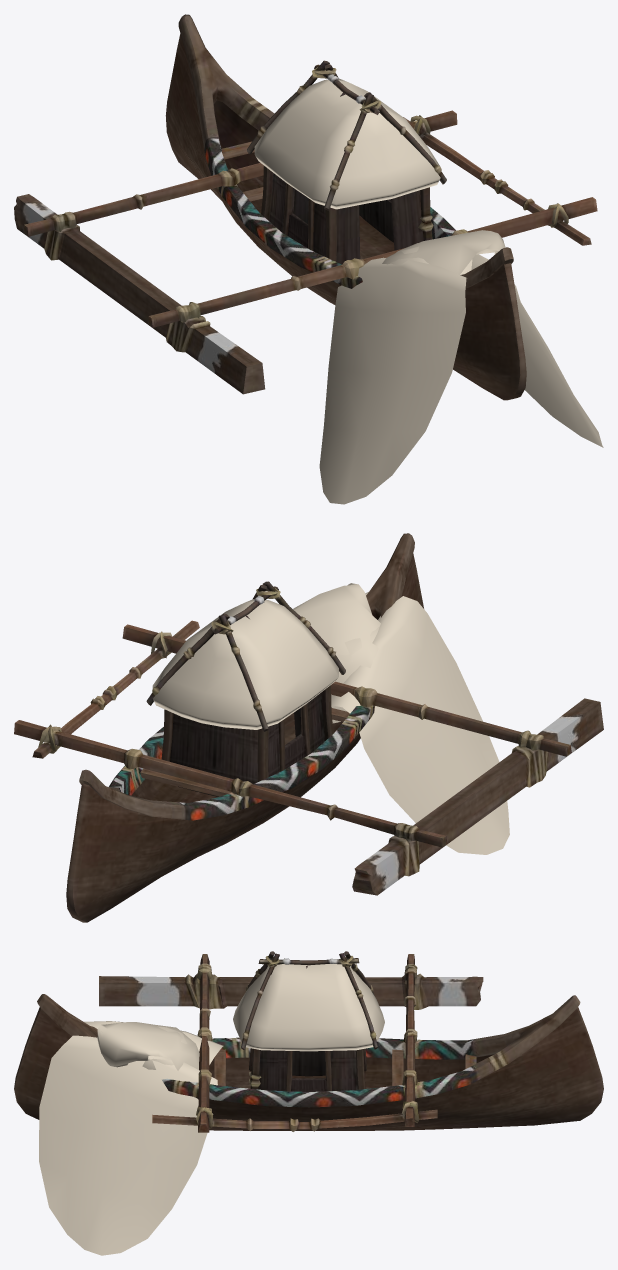
Rendered from 187-fishingshipaztec.glb.
The picture shows the model from 3 angles, top to bottom: view 1: azimuth 30°, elevation 25°; view 2: azimuth 150°, elevation 25°; view 3: azimuth 270°, elevation 25°; orthographic projection. The views are drawn at different scales.
Bounding box in the file's own units: 3.09 × 2.04 × 4.3.
3 materials, 1 textured.
